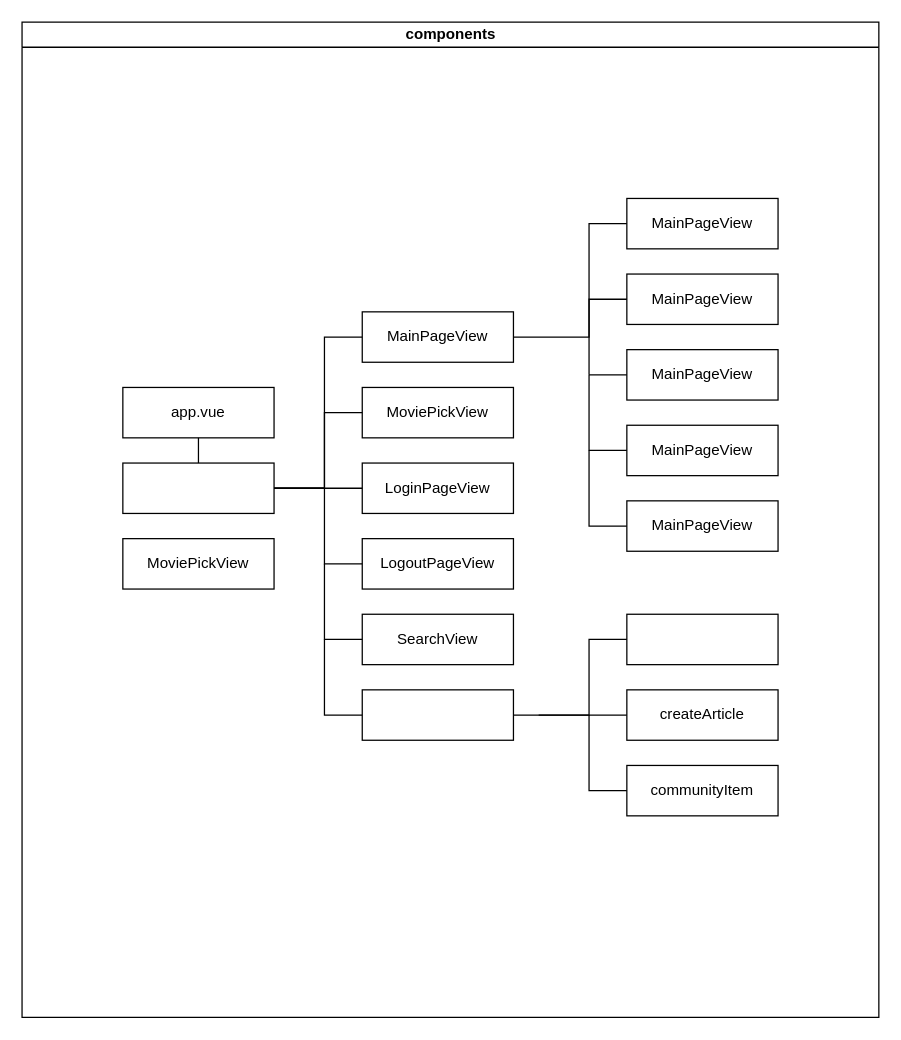
This 901x1040 diagram has some shape labels left out. The centre of each missing label's shape, as x and y in pixels:
CommunityDetailView: point (702, 639)
CommunityView: point (437, 714)
router-view: point (198, 487)
